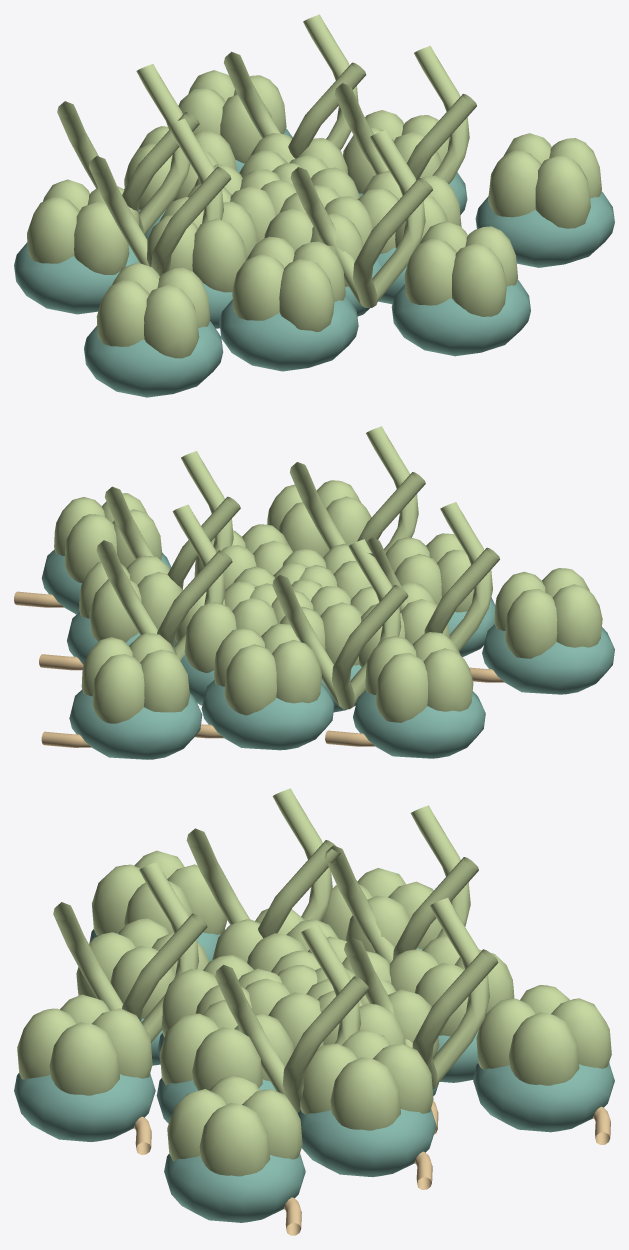
File: bio_oxygen_reef_24_far.glb
The picture shows the model from 3 angles, top to bottom: view 1: azimuth 30°, elevation 25°; view 2: azimuth 150°, elevation 25°; view 3: azimuth 270°, elevation 25°; orthographic projection. The views are drawn at different scales.
Parts seen in each view (by area): view 1: Lobed gas sac.028, Lobed gas sac.048, Lobed gas sac.040, Lobed gas sac.052, Spiral filament.006, Lobed gas sac.036, Spiral filament.012, Photosynthetic cushion.007, Photosynthetic cushion.012, Photosynthetic cushion.010, Spiral filament.003, Spiral filament (+14 smaller); view 2: Lobed gas sac.048, Lobed gas sac.036, Lobed gas sac.044, Lobed gas sac.024, Spiral filament.003, Spiral filament.009, Photosynthetic cushion.011, Photosynthetic cushion.012, Photosynthetic cushion.006, Photosynthetic cushion.009, Lobed gas sac.032, Spiral filament.006 (+19 smaller); view 3: Lobed gas sac.040, Lobed gas sac.052, Lobed gas sac.044, Lobed gas sac.032, Spiral filament.009, Spiral filament, Spiral filament.006, Lobed gas sac.020, Spiral filament.012, Photosynthetic cushion.010, Photosynthetic cushion.011, Photosynthetic cushion.013 (+13 smaller).
Boxes of the visible parts, x1,y1,x2,y2 form: Lobed gas sac.028: (232, 236, 345, 331); Lobed gas sac.048: (96, 262, 210, 358); Lobed gas sac.040: (404, 221, 517, 316); Lobed gas sac.052: (488, 133, 601, 228); Spiral filament.006: (290, 129, 432, 307); Lobed gas sac.036: (27, 179, 139, 274); Spiral filament.012: (89, 118, 231, 276); Photosynthetic cushion.007: (219, 295, 358, 371); Photosynthetic cushion.012: (84, 321, 223, 397); Photosynthetic cushion.010: (391, 280, 530, 356); Spiral filament.003: (57, 64, 199, 235); Spiral filament: (334, 45, 476, 183); Lobed gas sac.048: (494, 568, 602, 658); Lobed gas sac.036: (365, 632, 473, 722); Lobed gas sac.044: (81, 633, 189, 723); Lobed gas sac.024: (214, 623, 321, 715); Spiral filament.003: (272, 539, 408, 709); Spiral filament.009: (96, 504, 232, 660); Photosynthetic cushion.011: (69, 689, 202, 759); Photosynthetic cushion.012: (482, 624, 614, 694); Photosynthetic cushion.006: (201, 680, 334, 750); Photosynthetic cushion.009: (353, 690, 485, 758); Lobed gas sac.032: (79, 555, 182, 642); Spiral filament.006: (290, 426, 425, 553); Lobed gas sac.040: (17, 994, 152, 1095); Lobed gas sac.052: (167, 1075, 302, 1176); Lobed gas sac.044: (476, 985, 611, 1085); Lobed gas sac.032: (300, 1029, 433, 1130); Spiral filament.009: (344, 897, 498, 1089); Spiral filament: (215, 924, 369, 1112); Spiral filament.006: (53, 862, 207, 1042); Lobed gas sac.020: (160, 1000, 293, 1090); Spiral filament.012: (186, 788, 340, 938); Photosynthetic cushion.010: (14, 1073, 155, 1141); Photosynthetic cushion.011: (473, 1062, 614, 1132); Photosynthetic cushion.013: (164, 1154, 305, 1222).
Size of the model in its own units: 2.35 by 0.7508 by 2.03.
